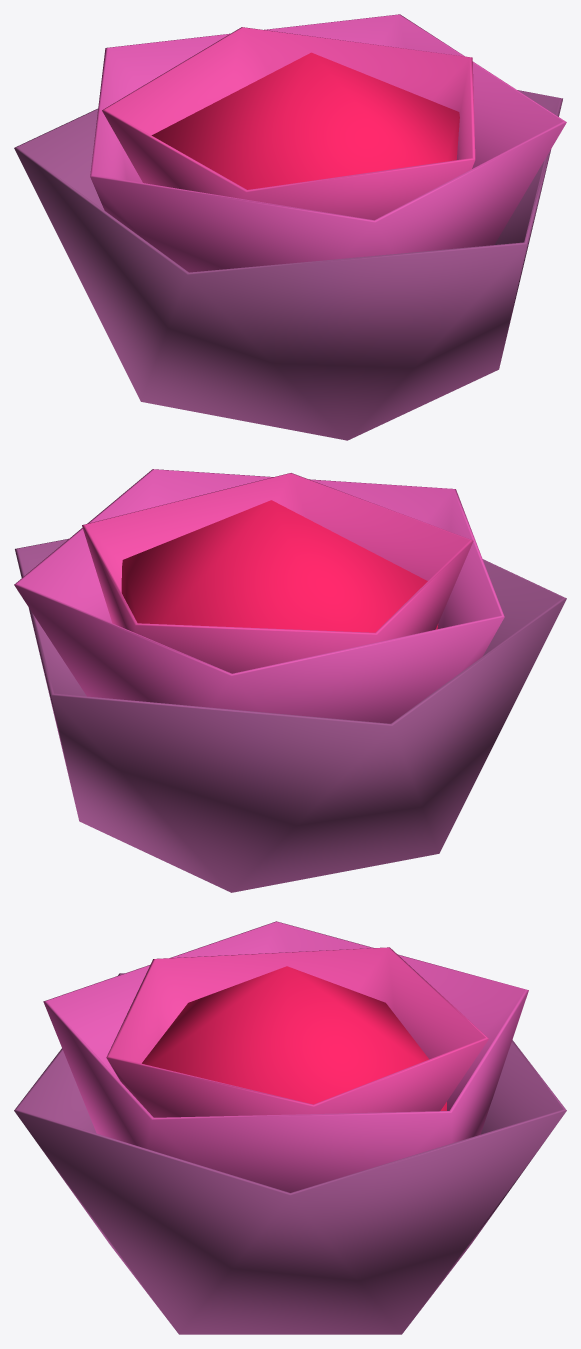
File: Flower_02.glb
3 views of the same model, one above another, from view 1: azimuth 30°, elevation 25°; view 2: azimuth 150°, elevation 25°; view 3: azimuth 270°, elevation 25° (orthographic). The views are drawn at different scales.
Parts seen in each view (by area): view 1: Flower_02; view 2: Flower_02; view 3: Flower_02.
Part boxes in pixels (<box>): Flower_02: <box>14,14,566,440</box>; Flower_02: <box>14,469,566,892</box>; Flower_02: <box>14,921,566,1334</box>.
Size of the model in its own units: 0.649 by 0.3995 by 0.6572.
1 material, 1 textured.
